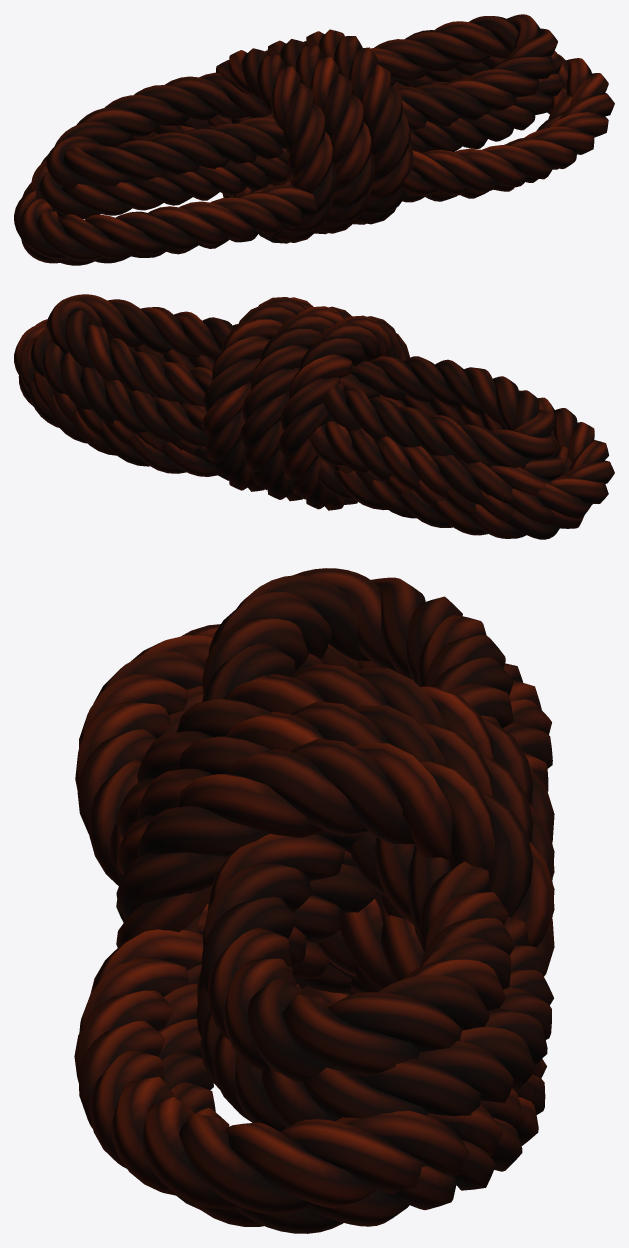
The model's file is RopeBundle.fbx.
3 views of the same model, one above another, from view 1: azimuth 30°, elevation 25°; view 2: azimuth 150°, elevation 25°; view 3: azimuth 270°, elevation 25° (orthographic). The views are drawn at different scales.
Visible parts, largest first — view 1: RopeBundle; view 2: RopeBundle; view 3: RopeBundle.
Part boxes in pixels (x1,y1,x2,y2): RopeBundle: (14,14,614,265); RopeBundle: (14,294,614,539); RopeBundle: (74,568,554,1233).
Bounding box in the file's own units: 0.6024 × 0.174 × 0.2162.
